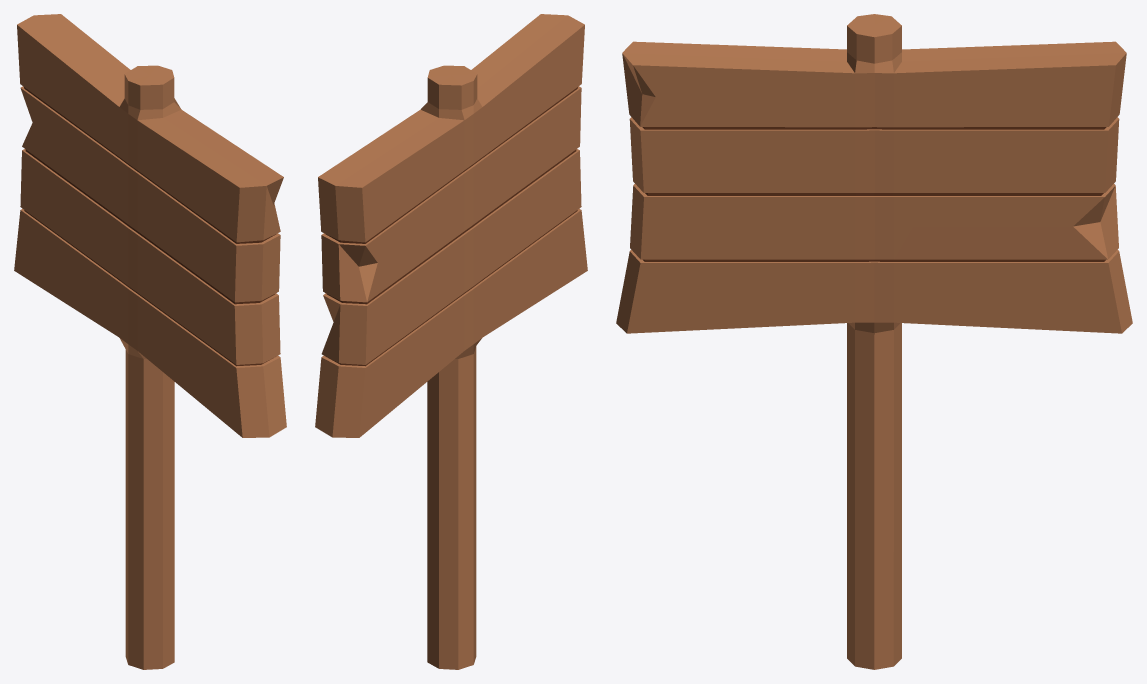
Rendered from Sign.fbx.
3 renders of one model, left to right at view 1: azimuth 30°, elevation 25°; view 2: azimuth 150°, elevation 25°; view 3: azimuth 270°, elevation 25°, orthographic. The views are drawn at different scales.
Parts seen in each view (by area): view 1: Sign; view 2: Sign; view 3: Sign.
Part boxes in pixels (x1,y1,x2,y2): Sign: (14, 14, 286, 669); Sign: (315, 14, 587, 669); Sign: (616, 14, 1132, 669).
Bounding box in the file's own units: 127 × 1599 × 1183.
